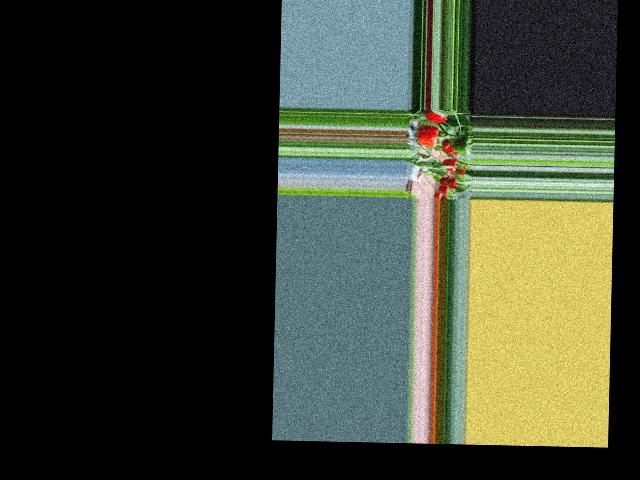bell_pepper: (438, 158, 460, 173)
